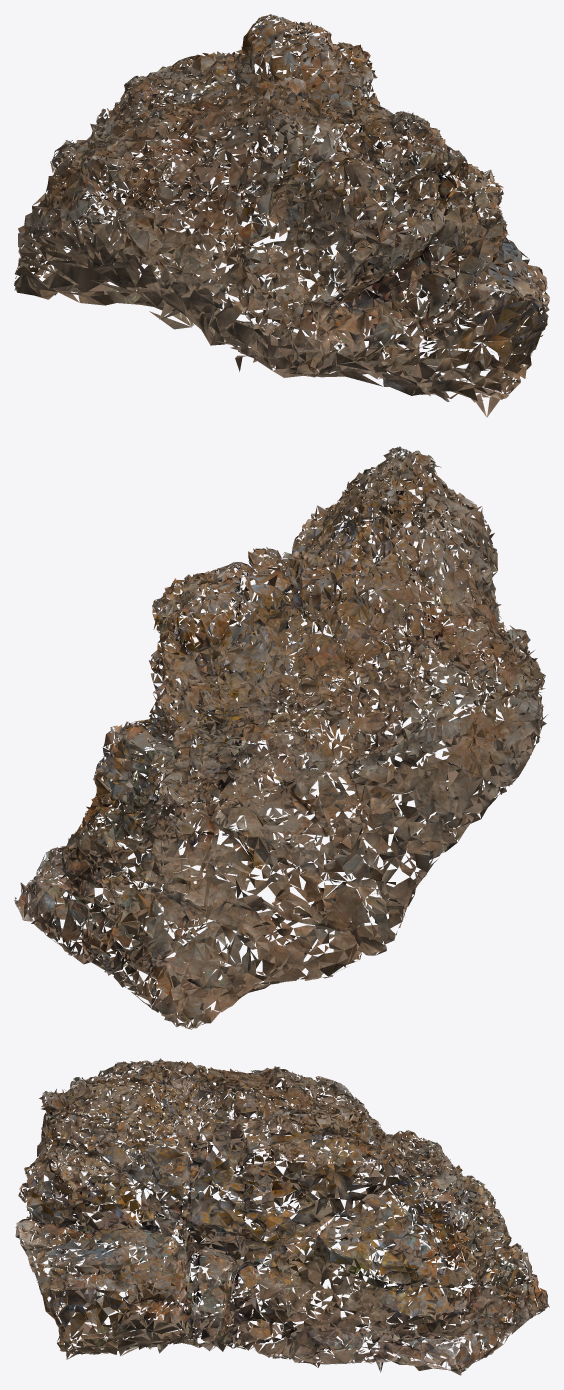
Rendered from boulder_01_LOD2.fbx.
3 renders of one model, top to bottom at view 1: azimuth 30°, elevation 25°; view 2: azimuth 150°, elevation 25°; view 3: azimuth 270°, elevation 25°, orthographic. The views are drawn at different scales.
Parts seen in each view (by area): view 1: boulder_01.001; view 2: boulder_01.001; view 3: boulder_01.001.
Part boxes in pixels (x1,y1,x2,y2): boulder_01.001: (14,14,549,417); boulder_01.001: (14,446,547,1029); boulder_01.001: (15,1058,549,1375).
Size of the model in its own units: 1.28 by 1.01 by 1.84.
Materials: 1 (1 with a texture image).
